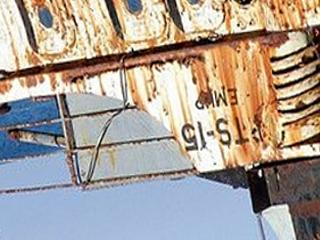rust: (3, 41, 285, 88), (204, 72, 318, 163), (23, 1, 117, 39), (220, 3, 317, 32), (283, 192, 318, 219)
